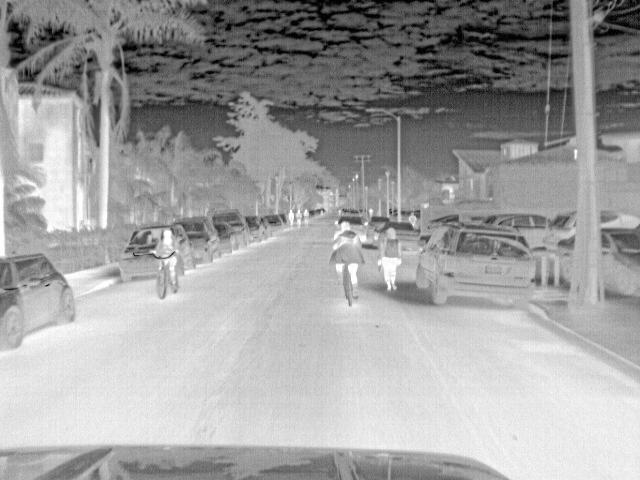car: (416, 222, 534, 308), (1, 254, 79, 350), (118, 225, 190, 285), (598, 226, 638, 300), (173, 216, 222, 264), (485, 214, 553, 248), (544, 209, 577, 254), (382, 222, 421, 252), (216, 212, 250, 246), (557, 234, 577, 286), (210, 226, 238, 252), (365, 218, 389, 246), (243, 213, 264, 240), (262, 214, 284, 230)
person: (331, 221, 361, 299), (374, 228, 402, 292), (150, 229, 178, 288), (405, 210, 420, 229), (292, 205, 304, 227), (301, 207, 310, 227), (285, 207, 294, 226)
